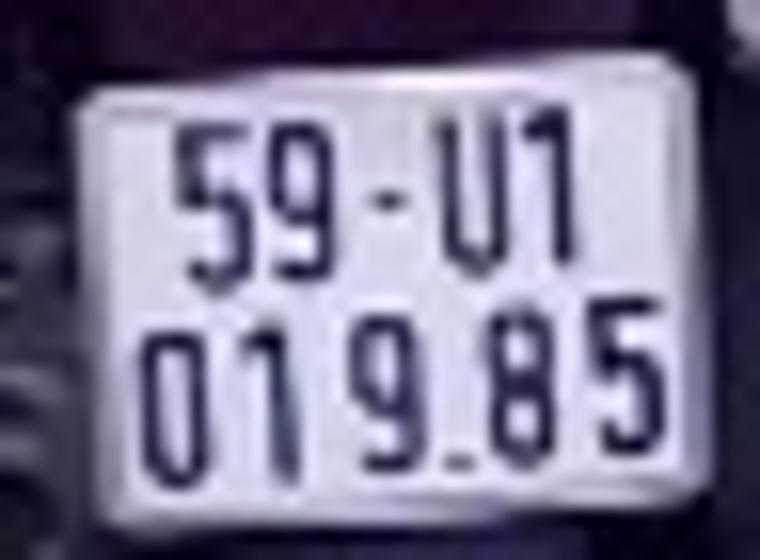-: (361, 180, 422, 224)
.: (446, 440, 479, 484)
0: (141, 319, 219, 496)
1: (234, 312, 317, 494), (530, 96, 589, 272)
5: (161, 117, 259, 293), (583, 288, 667, 463)
8: (483, 314, 558, 470)
9: (263, 118, 350, 287), (341, 296, 425, 471)
U: (437, 101, 518, 276)
